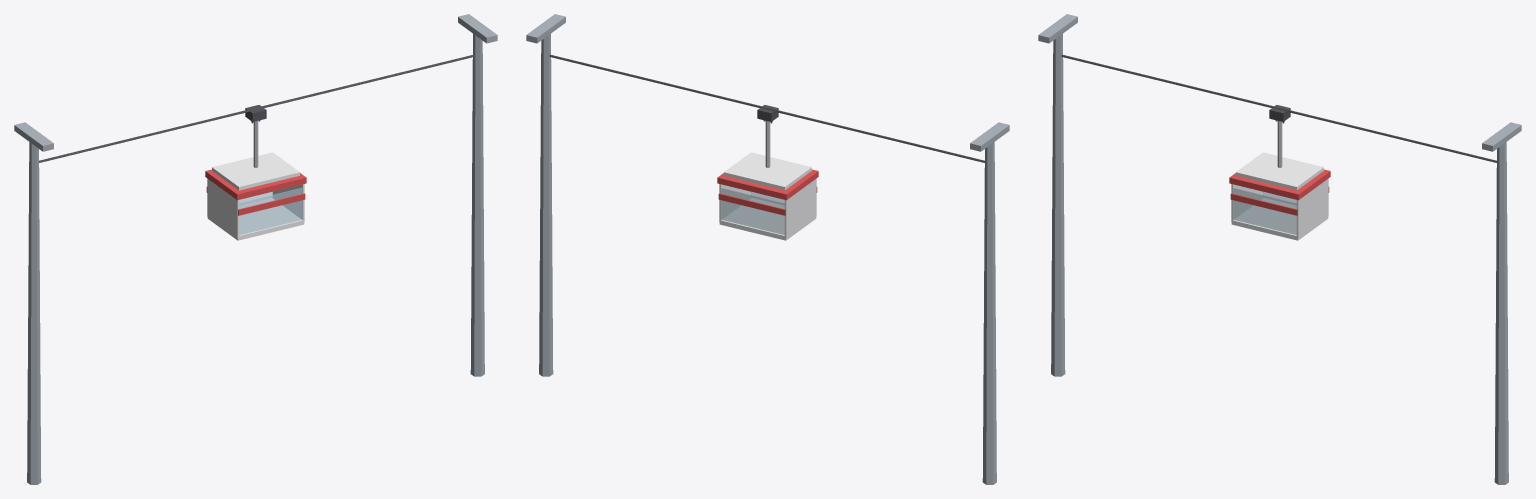
File: tsukuba_ropeway_gondola.glb
The picture shows the model from 3 angles, left to right: view 1: azimuth 30°, elevation 25°; view 2: azimuth 150°, elevation 25°; view 3: azimuth 330°, elevation 25°; orthographic projection.
Visible parts, largest first — view 1: tsukuba_ropeway_gondola; view 2: tsukuba_ropeway_gondola; view 3: tsukuba_ropeway_gondola.
Part boxes in pixels (<box>): tsukuba_ropeway_gondola: <box>14,14,497,484</box>; tsukuba_ropeway_gondola: <box>526,14,1009,484</box>; tsukuba_ropeway_gondola: <box>1038,14,1521,484</box>.
Size of the model in its own units: 16.4 by 12 by 2.
